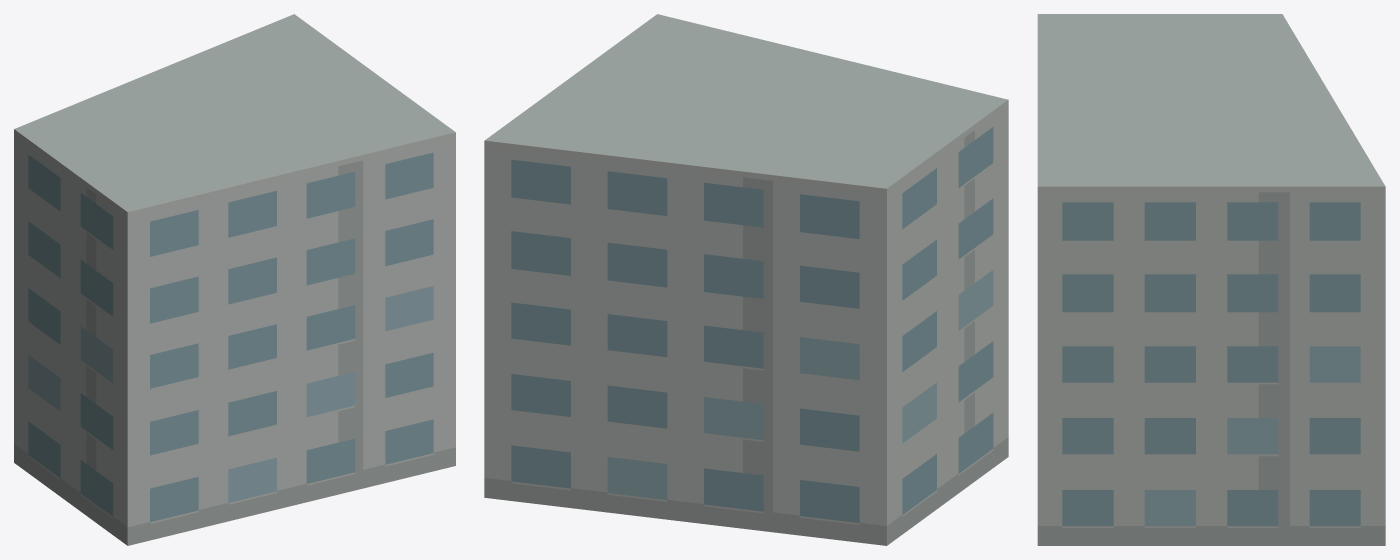
File: residential-d8e482a9-689f-41b3-a55b-807db75354a1.glb
3 views of the same model, side by side, from view 1: azimuth 30°, elevation 25°; view 2: azimuth 150°, elevation 25°; view 3: azimuth 270°, elevation 25° (orthographic). The views are drawn at different scales.
Parts seen in each view (by area): view 1: residential-d8e482a9-689f-41b3-a55b-807db75354a1.tmp; view 2: residential-d8e482a9-689f-41b3-a55b-807db75354a1.tmp; view 3: residential-d8e482a9-689f-41b3-a55b-807db75354a1.tmp.
Part boxes in pixels (x1=…): residential-d8e482a9-689f-41b3-a55b-807db75354a1.tmp: x1=14, y1=14, x2=455, y2=545; residential-d8e482a9-689f-41b3-a55b-807db75354a1.tmp: x1=484, y1=14, x2=1008, y2=545; residential-d8e482a9-689f-41b3-a55b-807db75354a1.tmp: x1=1037, y1=14, x2=1385, y2=545.
Bounding box in the file's own units: 15.72 × 15.25 × 13.4.
